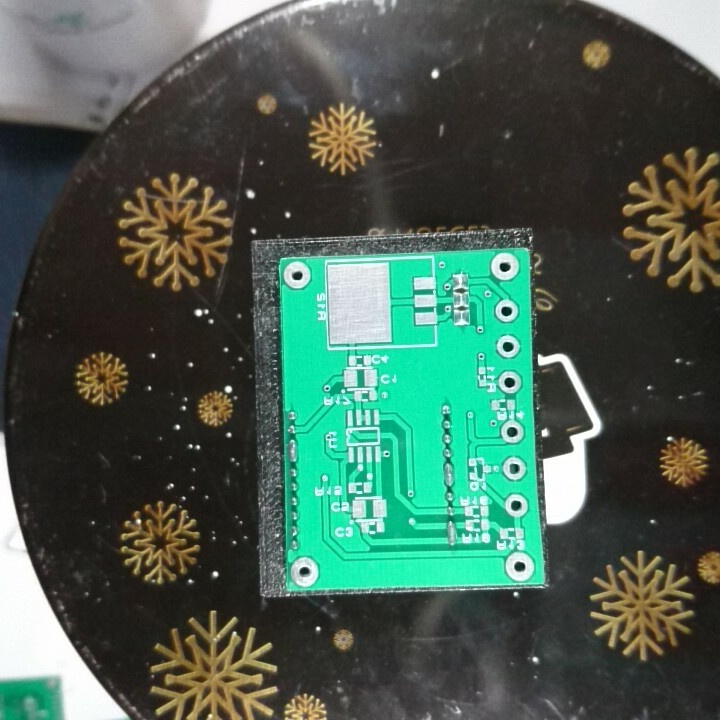F: (503, 549, 538, 583), (488, 250, 522, 283), (288, 555, 321, 589), (281, 260, 314, 291), (499, 454, 530, 483), (493, 333, 525, 361), (496, 368, 525, 396), (498, 418, 527, 445), (502, 492, 531, 518), (491, 298, 520, 323)
P: (444, 518, 459, 549), (441, 460, 457, 489), (285, 437, 301, 465)
